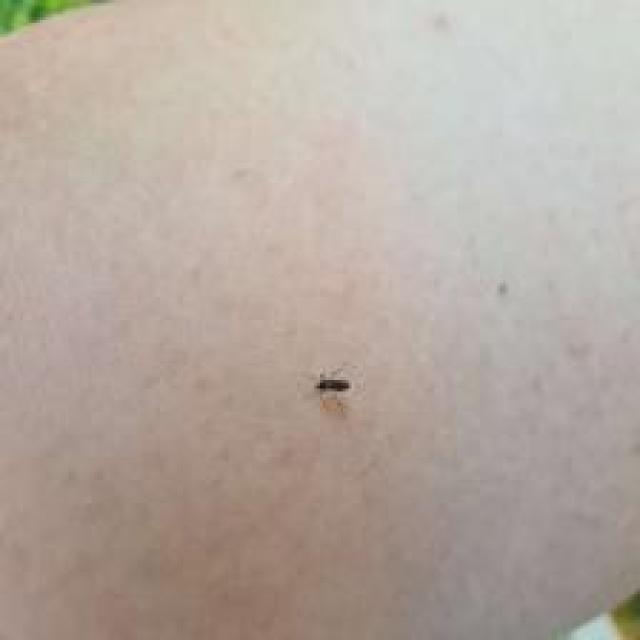Aedes albopictus: (314, 372, 352, 392)
